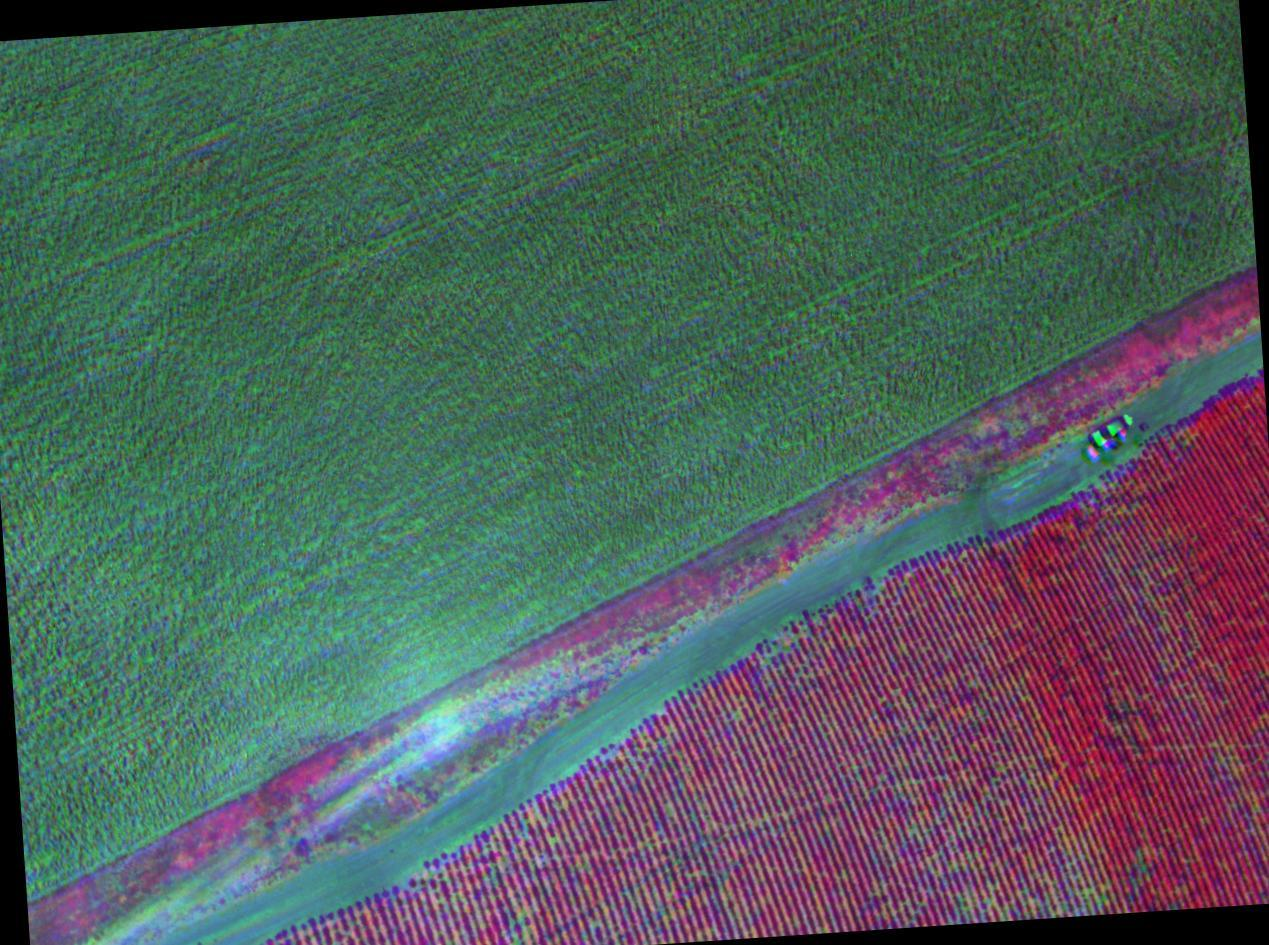dc: (625, 736, 694, 792), (958, 868, 1017, 923), (500, 902, 571, 945), (400, 856, 452, 903), (1062, 870, 1113, 917), (769, 623, 811, 665)
